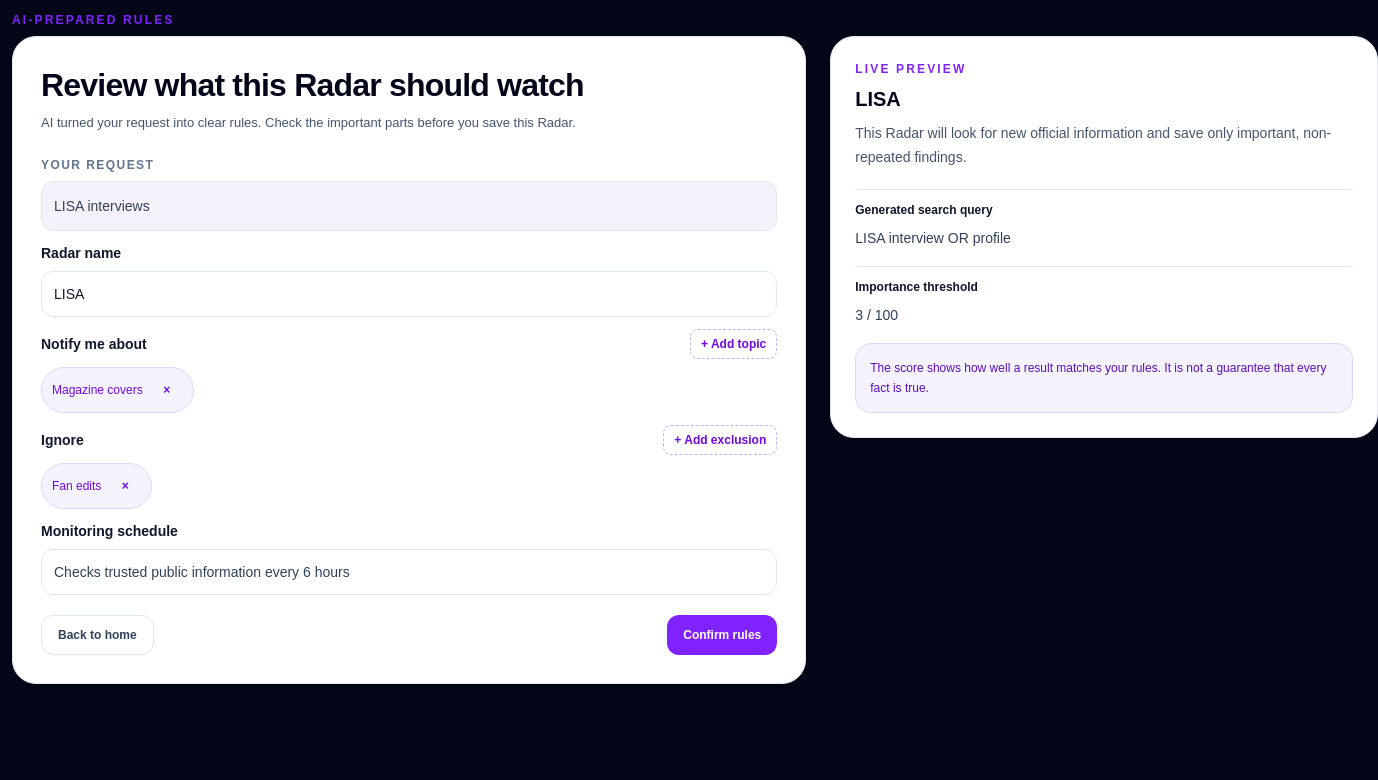
it: RulesForm › blocks confirmation and explains an invalid Radar name
The image size is (1378, 780).
Replace the text in the field labelled "Radar name" with "x": x=409, y=294 [41,271,777,317]
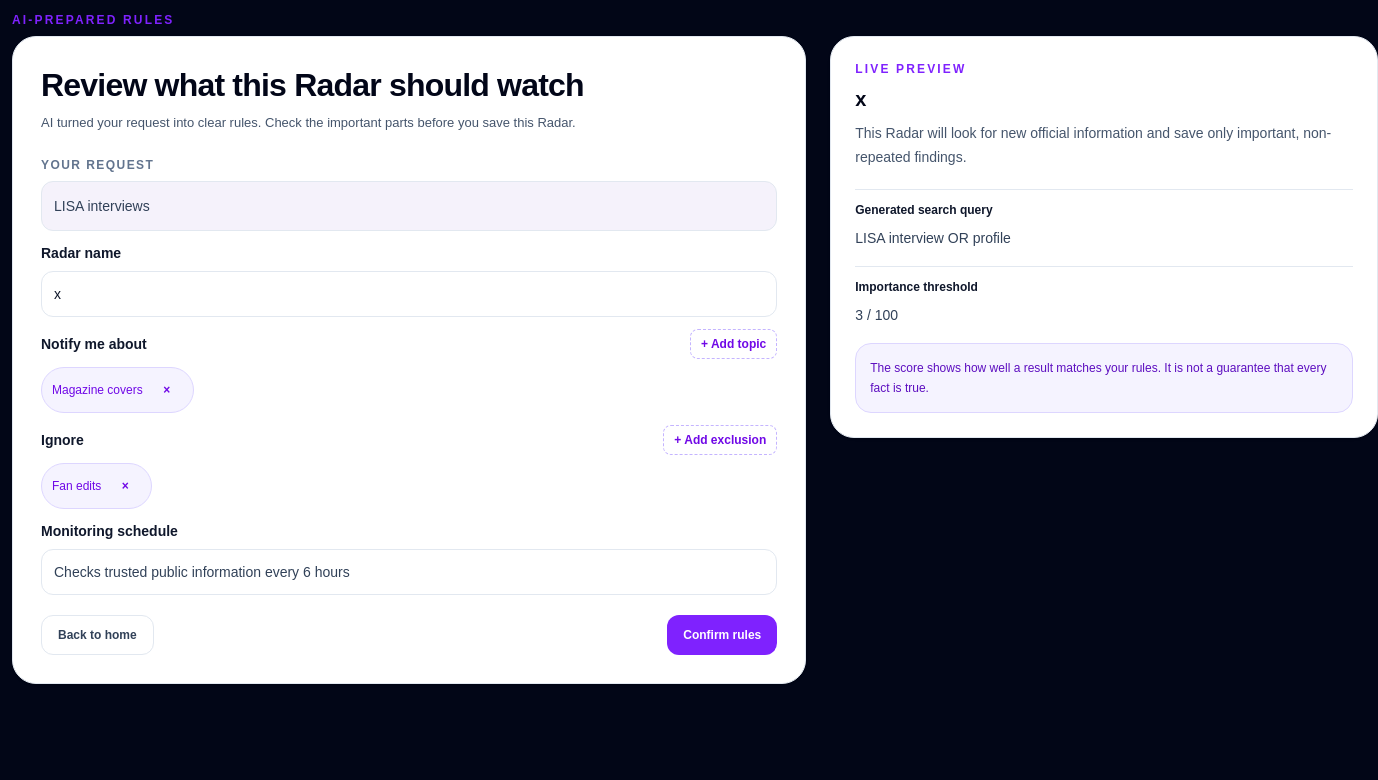
Click the button "Confirm rules": x=722, y=635 [667,615,777,655]
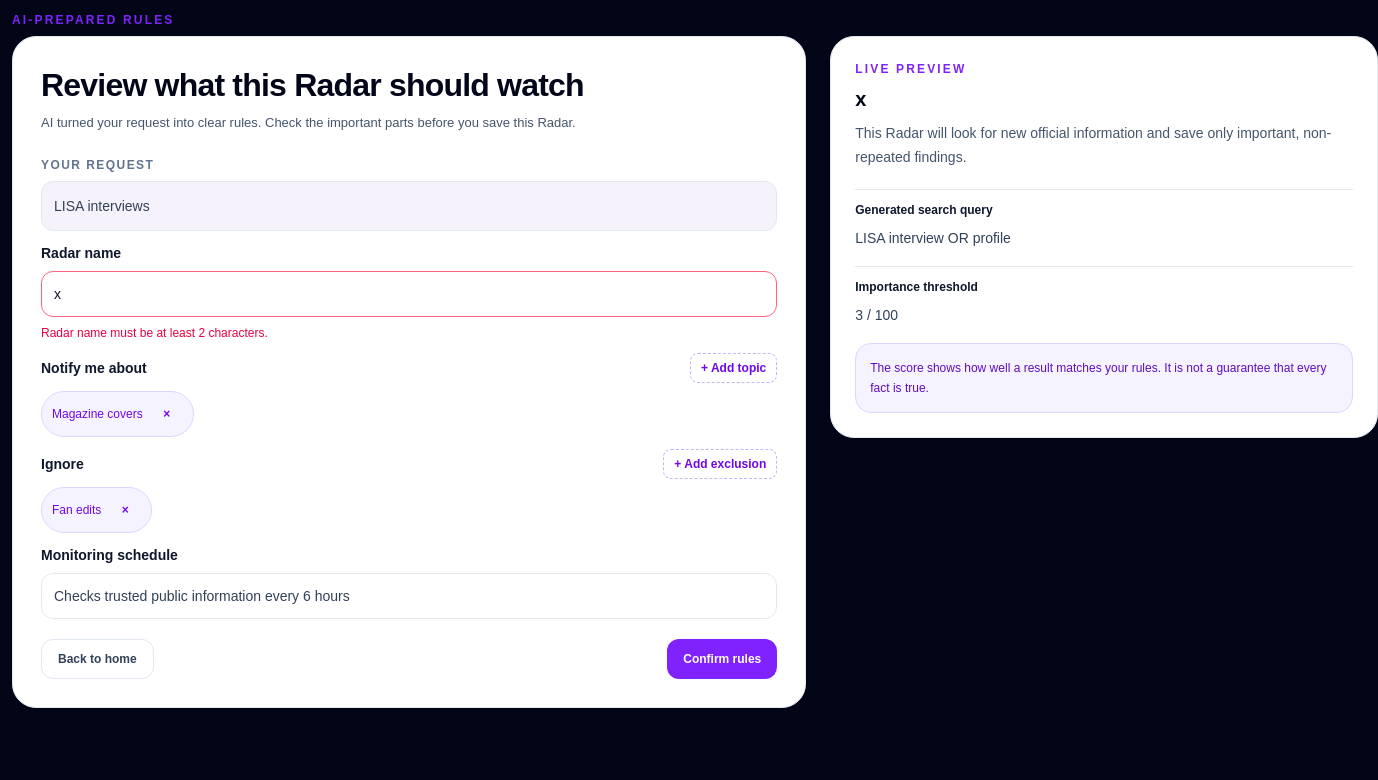
Expected: the message shows "at least 2 characters", [41,326,268,340]
